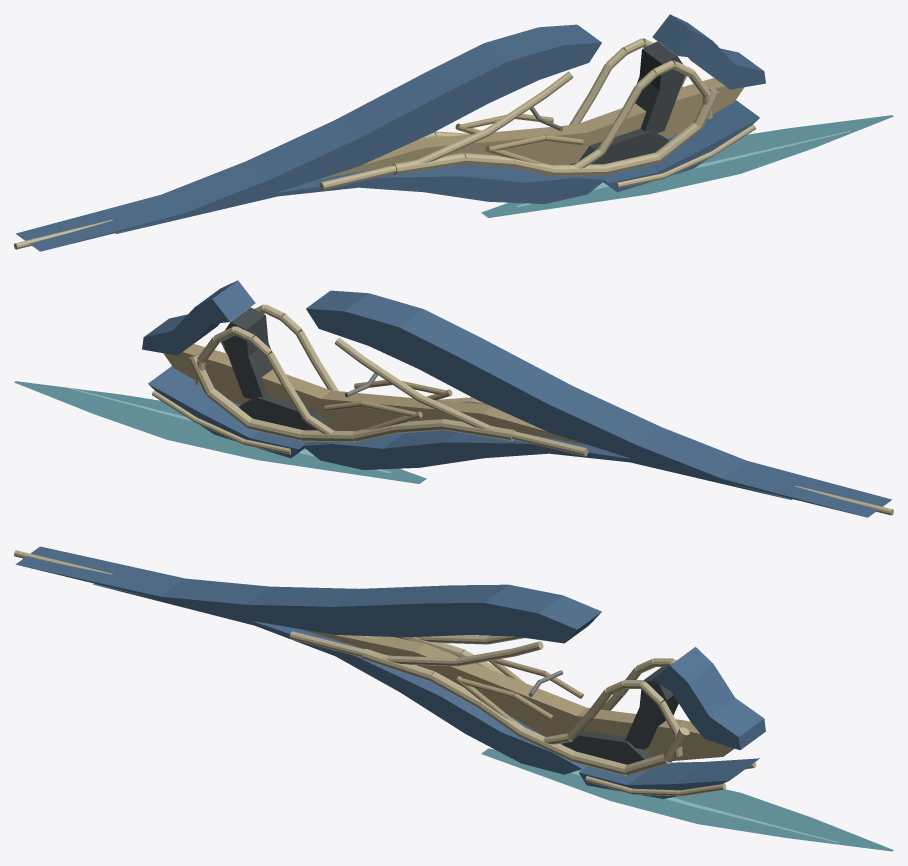
Rendered from ruch_blue_flight.glb.
3 renders of one model, top to bottom at view 1: azimuth 30°, elevation 25°; view 2: azimuth 150°, elevation 25°; view 3: azimuth 330°, elevation 25°, orthographic.
Parts seen in each view (by area): view 1: upper_blade_0, spine_3, lower_blade_1, ground_wake_13, gold_frame_8, rear_fairing_6, aft_lower_7, cockpit_arch_9, seat_back_5, seat_base_4, structural_braces_10, rear_rail_11 (+1 smaller); view 2: upper_blade_0, spine_3, lower_blade_1, ground_wake_13, gold_frame_8, rear_fairing_6, aft_lower_7, cockpit_arch_9, seat_back_5, seat_base_4, structural_braces_10, rear_rail_11; view 3: upper_blade_0, spine_3, ground_wake_13, gold_frame_8, lower_blade_1, rear_fairing_6, aft_lower_7, cockpit_arch_9, structural_braces_10, seat_back_5, seat_base_4, rear_rail_11.
Boxes of the visible parts, <box> form: upper_blade_0: <box>16,24,601,251</box>; spine_3: <box>319,78,744,179</box>; lower_blade_1: <box>115,164,604,233</box>; ground_wake_13: <box>481,115,893,217</box>; gold_frame_8: <box>319,71,719,190</box>; rear_fairing_6: <box>652,14,765,89</box>; aft_lower_7: <box>600,100,759,192</box>; cockpit_arch_9: <box>569,38,712,168</box>; seat_back_5: <box>635,41,685,133</box>; seat_base_4: <box>569,128,668,164</box>; structural_braces_10: <box>455,114,583,164</box>; rear_rail_11: <box>617,124,755,188</box>; upper_blade_0: <box>306,290,891,517</box>; spine_3: <box>163,344,588,445</box>; lower_blade_1: <box>303,430,792,499</box>; ground_wake_13: <box>14,381,426,483</box>; gold_frame_8: <box>188,337,588,456</box>; rear_fairing_6: <box>142,280,255,355</box>; aft_lower_7: <box>148,366,307,458</box>; cockpit_arch_9: <box>195,304,338,434</box>; seat_back_5: <box>222,307,272,399</box>; seat_base_4: <box>239,394,338,430</box>; structural_braces_10: <box>324,380,452,430</box>; rear_rail_11: <box>152,390,290,454</box>; upper_blade_0: <box>15,546,601,643</box>; spine_3: <box>300,629,734,760</box>; ground_wake_13: <box>481,748,893,851</box>; gold_frame_8: <box>289,631,689,775</box>; lower_blade_1: <box>93,583,586,774</box>; rear_fairing_6: <box>652,647,765,750</box>; aft_lower_7: <box>579,758,759,798</box>; cockpit_arch_9: <box>543,658,682,756</box>; structural_braces_10: <box>455,659,583,721</box>; seat_back_5: <box>625,666,678,749</box>; seat_base_4: <box>561,730,651,764</box>; rear_rail_11: <box>585,762,756,796</box>.
Size of the model in its own units: 10.85 by 1.93 by 0.92.
